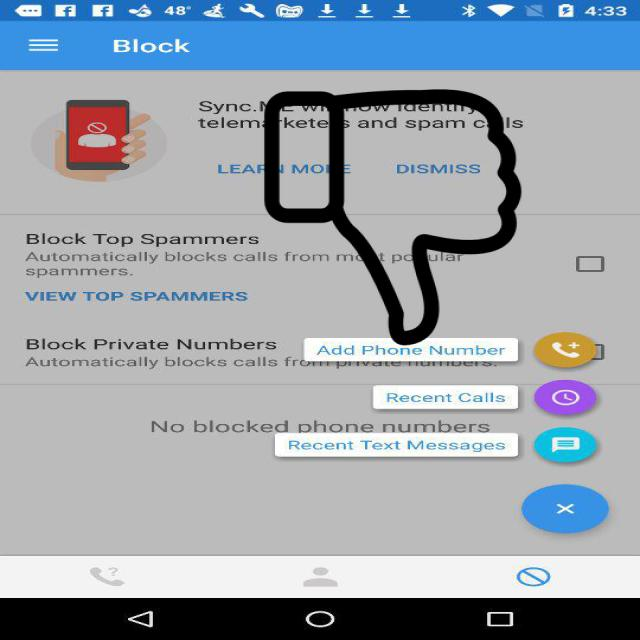obstruction: (261, 90, 525, 346)
